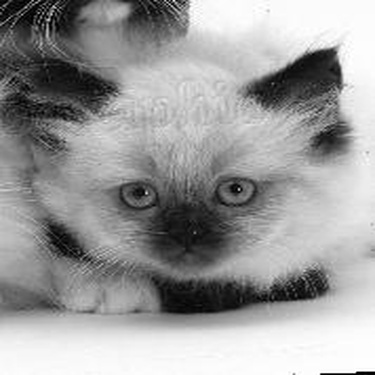cat: (1, 42, 371, 300)
